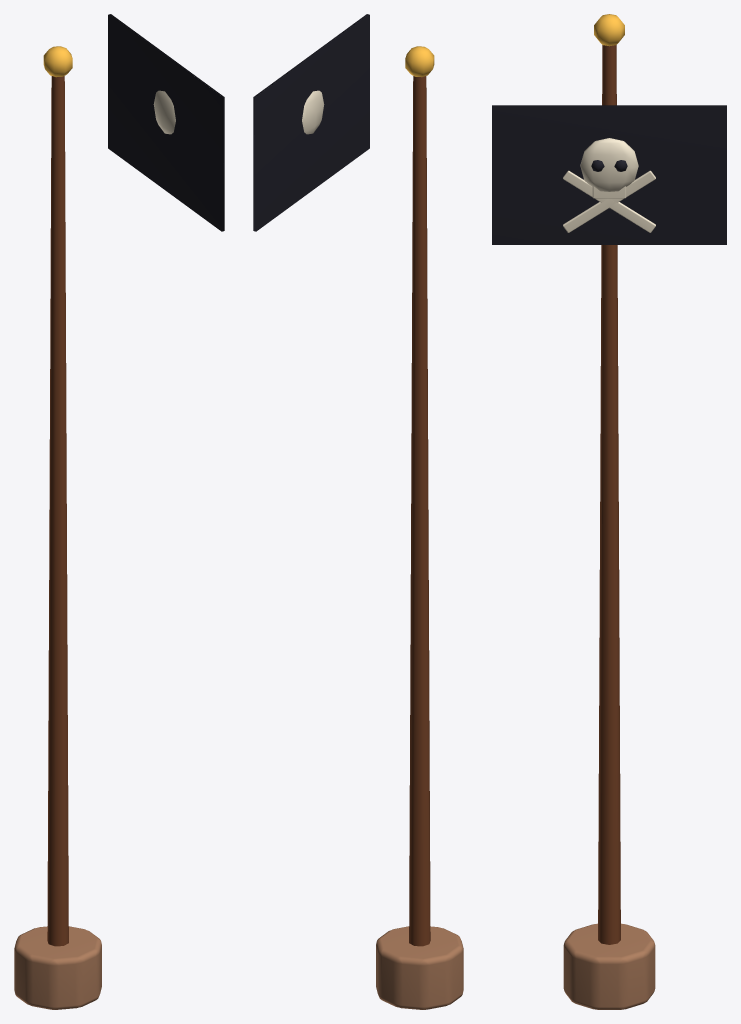
Rendered from cove_flagpole.glb.
3 views of the same model, side by side, from view 1: azimuth 30°, elevation 25°; view 2: azimuth 150°, elevation 25°; view 3: azimuth 270°, elevation 25° (orthographic). The views are drawn at different scales.
Parts seen in each view (by area): view 1: Flagpole; view 2: Flagpole; view 3: Flagpole.
Part boxes in pixels (<box>): Flagpole: <box>14,14,224,1009</box>; Flagpole: <box>253,14,463,1009</box>; Flagpole: <box>492,14,726,1009</box>.
Bounding box in the file's own units: 1.62 × 9.19 × 2.
